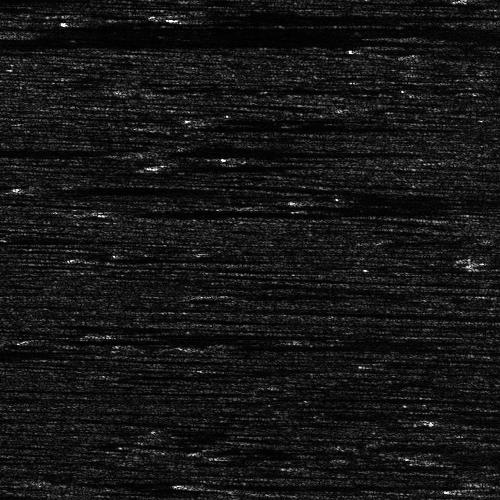rock: (87, 121, 212, 136), (169, 200, 326, 211), (141, 8, 266, 21), (38, 206, 153, 217), (87, 81, 180, 92), (428, 474, 500, 487), (428, 482, 500, 495), (287, 195, 370, 204), (400, 452, 463, 463), (433, 416, 500, 425), (118, 143, 171, 154), (161, 113, 214, 124), (189, 479, 252, 488), (454, 262, 500, 273), (0, 342, 23, 361), (140, 162, 181, 167), (308, 336, 349, 341), (460, 255, 500, 260), (221, 342, 252, 345)
shadow: (0, 26, 500, 35), (204, 8, 491, 21), (150, 121, 367, 136), (96, 206, 385, 217), (248, 200, 500, 211), (145, 143, 363, 154), (0, 342, 118, 361), (221, 479, 448, 488), (188, 113, 332, 124), (329, 195, 500, 204), (134, 81, 205, 92), (432, 452, 500, 463), (161, 162, 307, 167), (237, 342, 388, 345), (470, 474, 500, 487), (470, 482, 500, 495), (329, 336, 406, 341), (470, 416, 500, 425)
